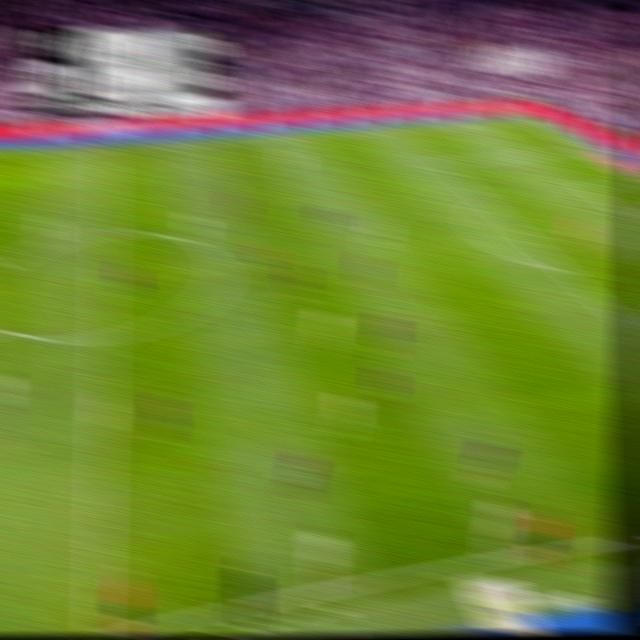bigarea_top_inner: (431, 153, 452, 169)
bigarea_top_outter: (565, 140, 588, 155)
bottom_arc_area_intersection: (552, 258, 575, 279)
corner: (512, 110, 534, 123)
halfcircle_bottom: (91, 323, 116, 351)
halfcircle_top: (91, 220, 118, 246)
midline_top_intersection: (96, 140, 117, 155)
smallarea_top_inner: (575, 179, 597, 194)
top_arc_area_intersection: (479, 195, 499, 211)
